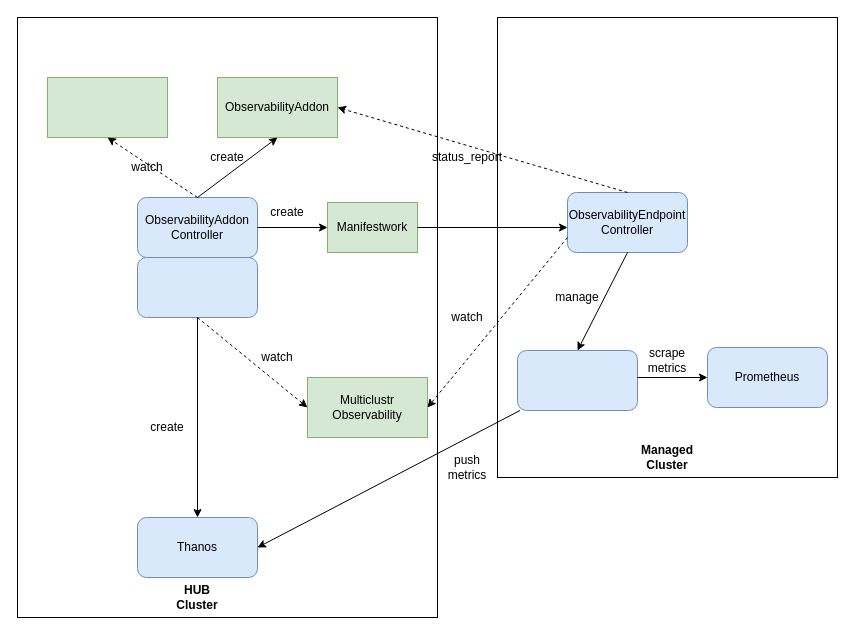
The diagram is 855 pixels wide and 635 high, and some of its shapes have lost their labels. Each missing label, with the centre of its shape:
Metrics Collector: pixel 577 380
MulticlusterObservability Controller: pixel 197 287
PlacementRule: pixel 107 107
